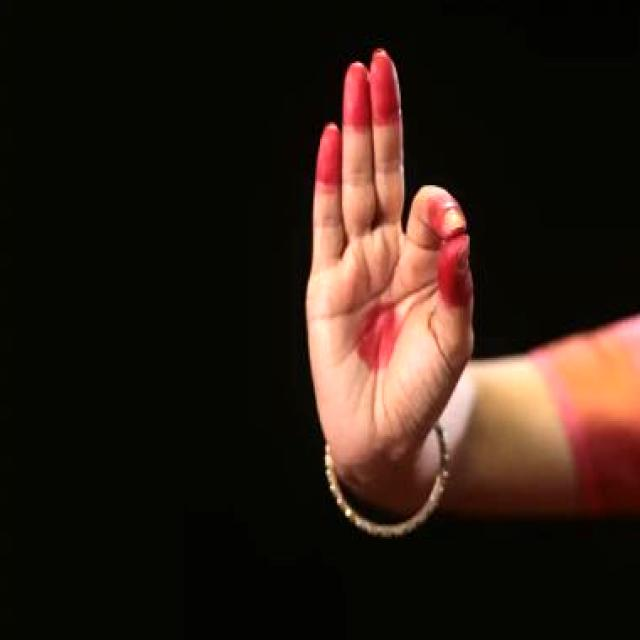Hamsasya: (274, 17, 516, 560)
